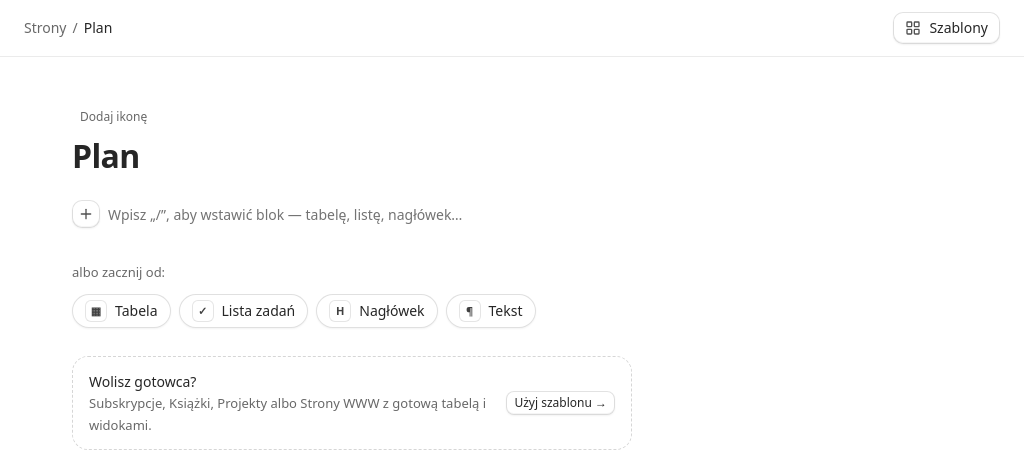
Scenario: EditorView › błąd zmiany tytułu przywraca poprzedni i pokazuje toast
Type "2" into the field named "Nazwa strony" at (536, 156), box [72,135,1000,178]
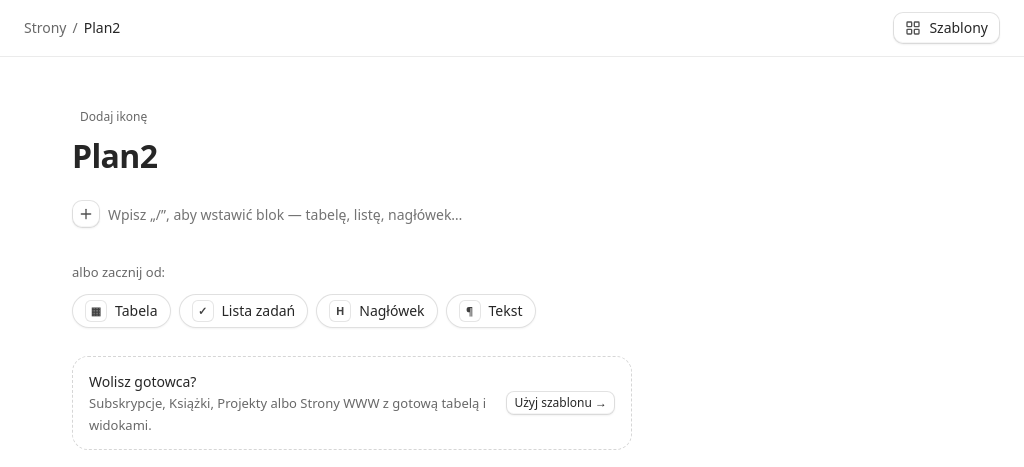
Press Tab
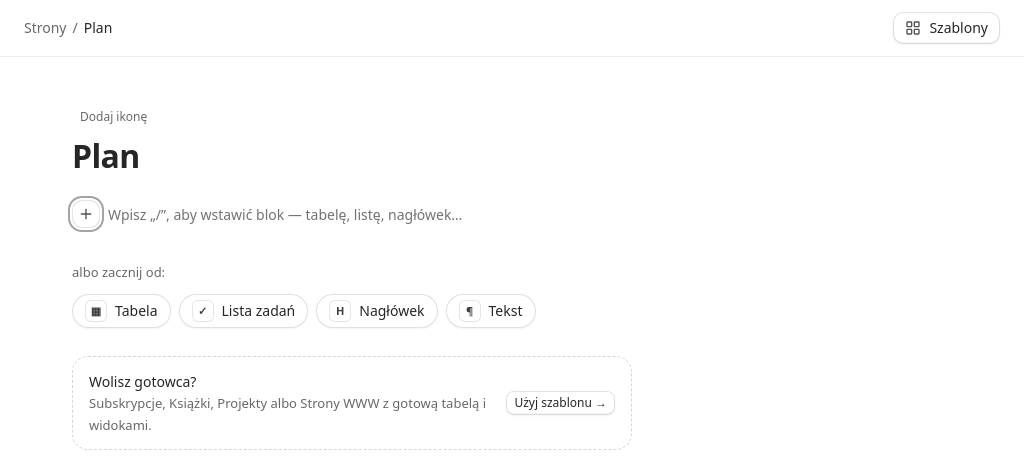
Expected: the field named "Nazwa strony" holds "Plan", [72,135,1000,178]
